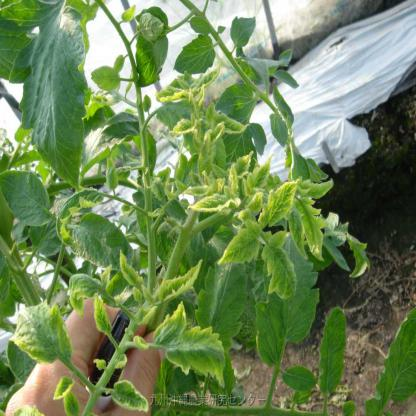Tomato leaf yellow virus: (151, 306, 236, 390), (11, 301, 82, 376), (142, 255, 206, 317), (215, 220, 266, 268), (262, 237, 297, 303), (69, 267, 122, 306), (261, 180, 299, 228), (111, 377, 150, 415), (186, 191, 235, 219), (168, 113, 197, 142)
